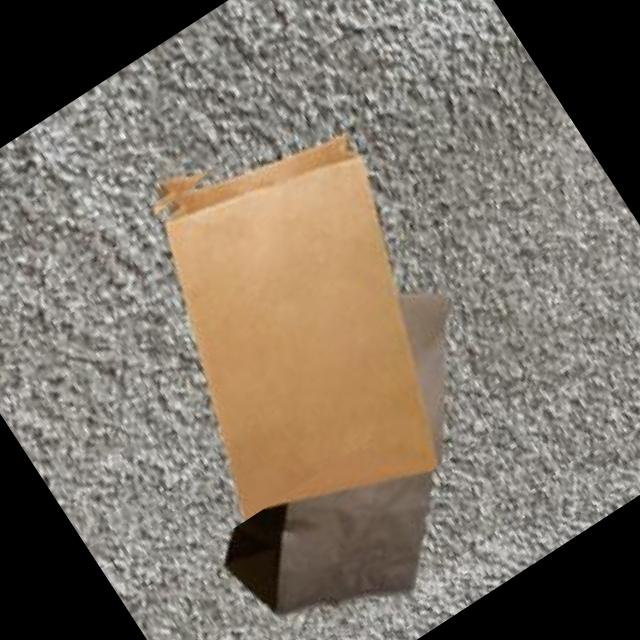PaperCardboard: (160, 138, 434, 542), (221, 471, 426, 616), (393, 288, 450, 452)
